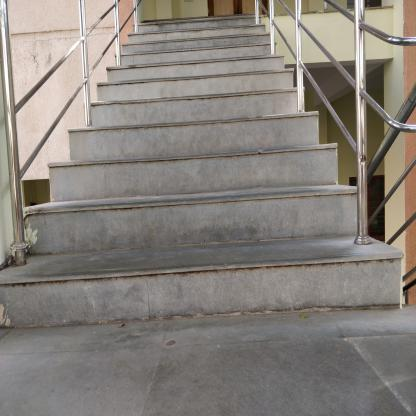stairs: (146, 11, 254, 332)
